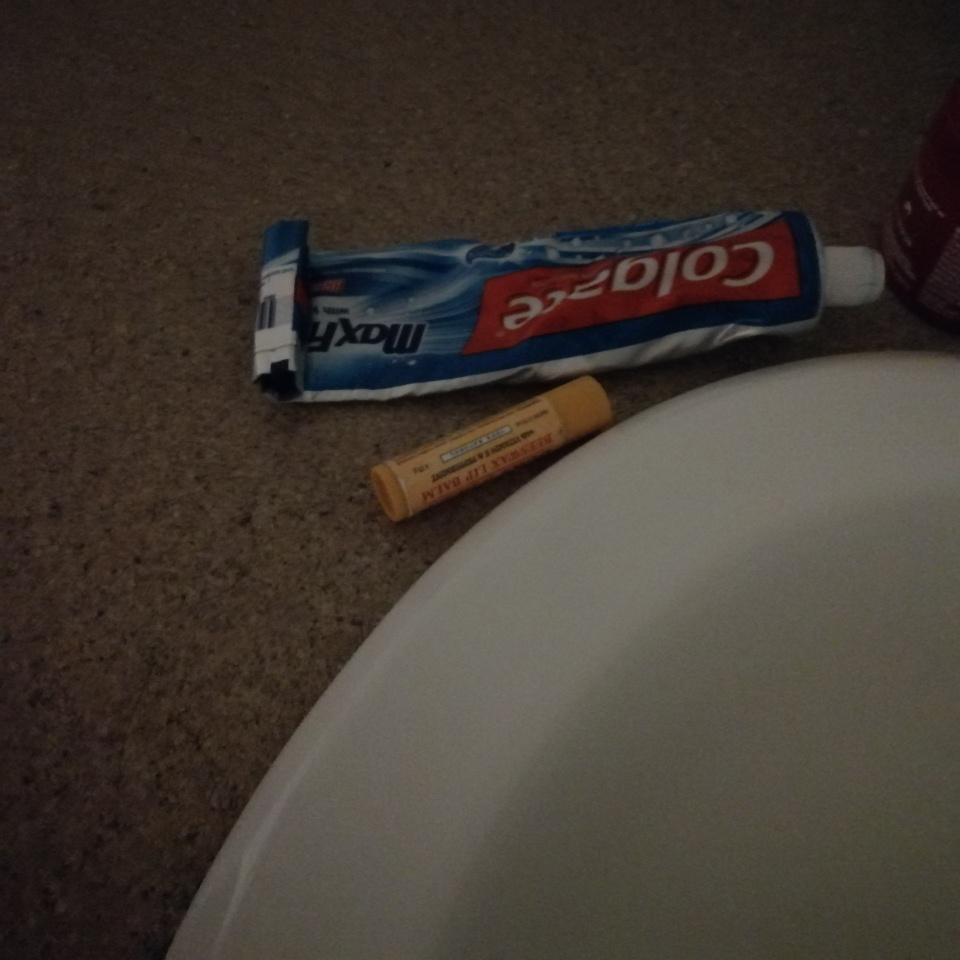chapstick: (371, 374, 614, 523)
